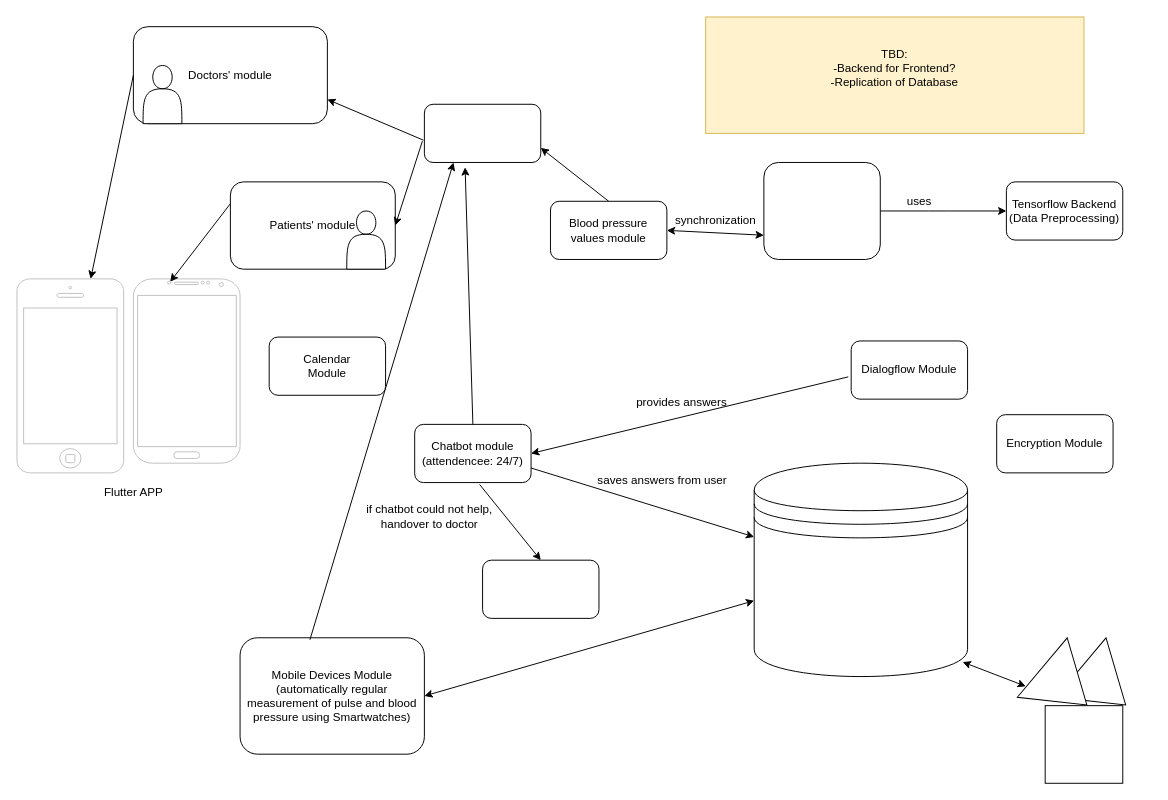
This 1168x800 diagram has some shape labels left out. The centre of each missing label's shape, as x and y in pixels:
"Authentication Module" goes at point 482,132.
"Clinic/hospital" goes at point 1083,744.
"Firebase DB (Europe hosted) HL7 FHIR Daten" goes at point 860,569.
"Machine Learning Module (analyzes blood pressure values)" goes at point 821,210.
"Telemedicine module (video conference)" goes at point 540,588.
